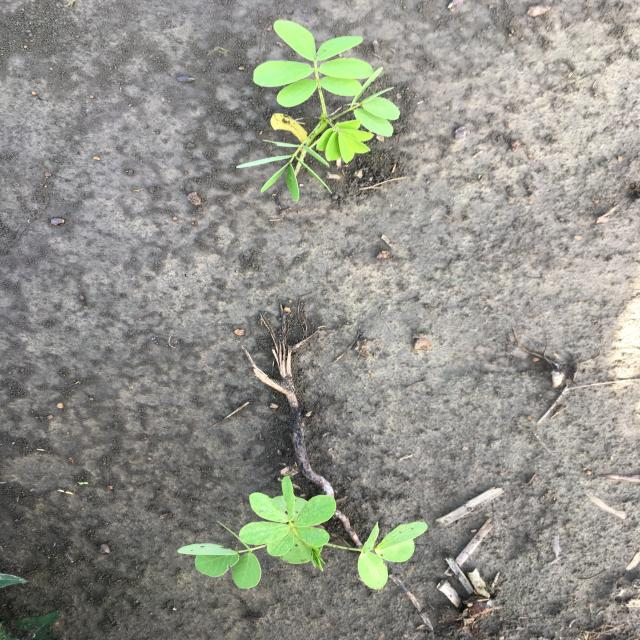Sicklepod: (233, 18, 403, 204), (175, 476, 431, 592)
